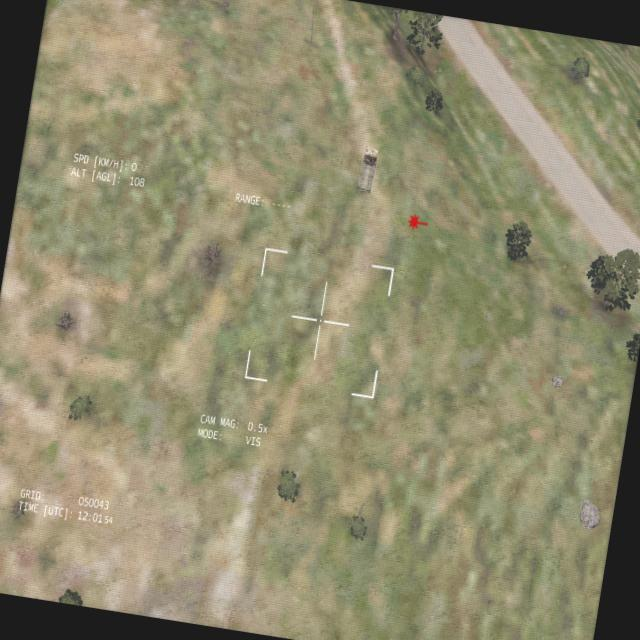truck: (354, 144, 379, 193)
